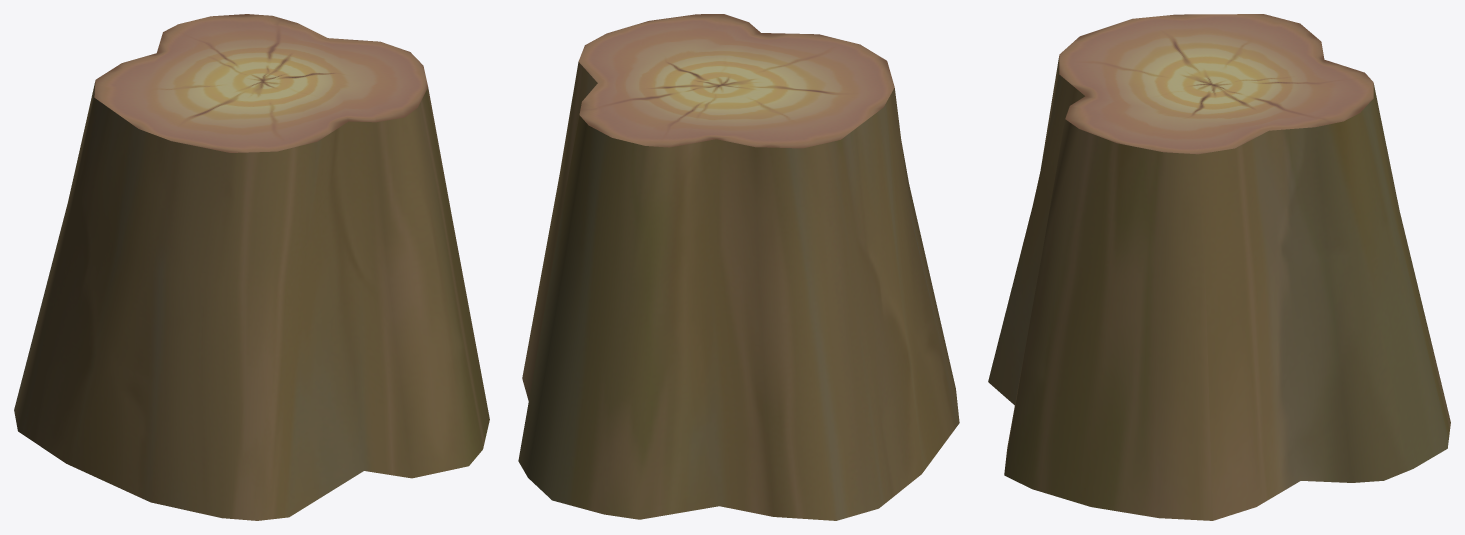
File: m_env_collect_tree_cedar_stump_01.fbx
The picture shows the model from 3 angles, left to right: view 1: azimuth 30°, elevation 25°; view 2: azimuth 150°, elevation 25°; view 3: azimuth 270°, elevation 25°; orthographic projection.
Visible parts, largest first — view 1: m_env_collect_tree_cedar_stump_01; view 2: m_env_collect_tree_cedar_stump_01; view 3: m_env_collect_tree_cedar_stump_01.
Boxes of the visible parts, x1,y1,x2,y2 form: m_env_collect_tree_cedar_stump_01: [14, 14, 489, 520]; m_env_collect_tree_cedar_stump_01: [518, 14, 959, 520]; m_env_collect_tree_cedar_stump_01: [988, 14, 1450, 520].
Bounding box in the file's own units: 110 × 89.67 × 110.
